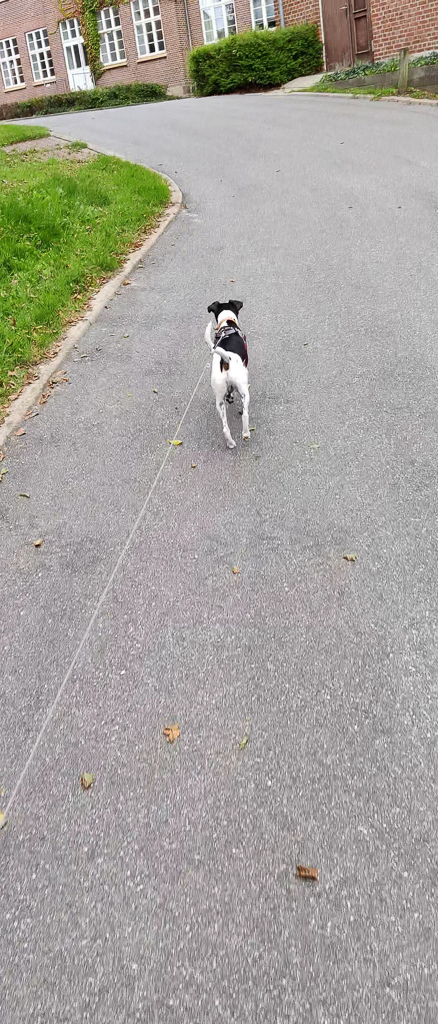Dog: (198, 291, 261, 462)
